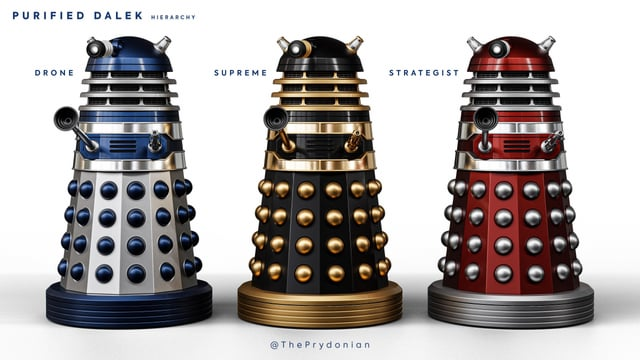dalek: (209, 17, 441, 360), (375, 5, 594, 336), (62, 23, 194, 320)
